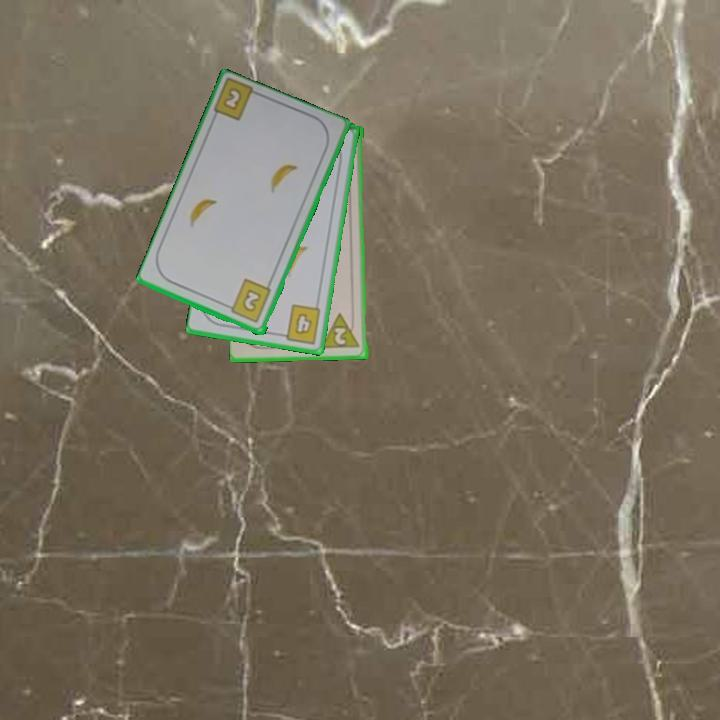2b: (223, 276, 274, 326), (219, 85, 245, 114)
2p: (320, 310, 363, 351)
4b: (276, 301, 324, 347)
